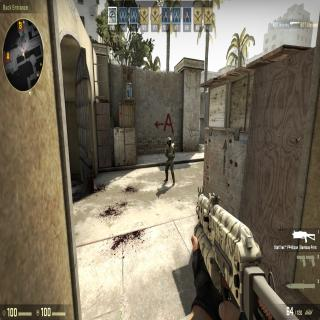CT-Body: (165, 137, 175, 186)
CT-Head: (166, 137, 172, 146)
